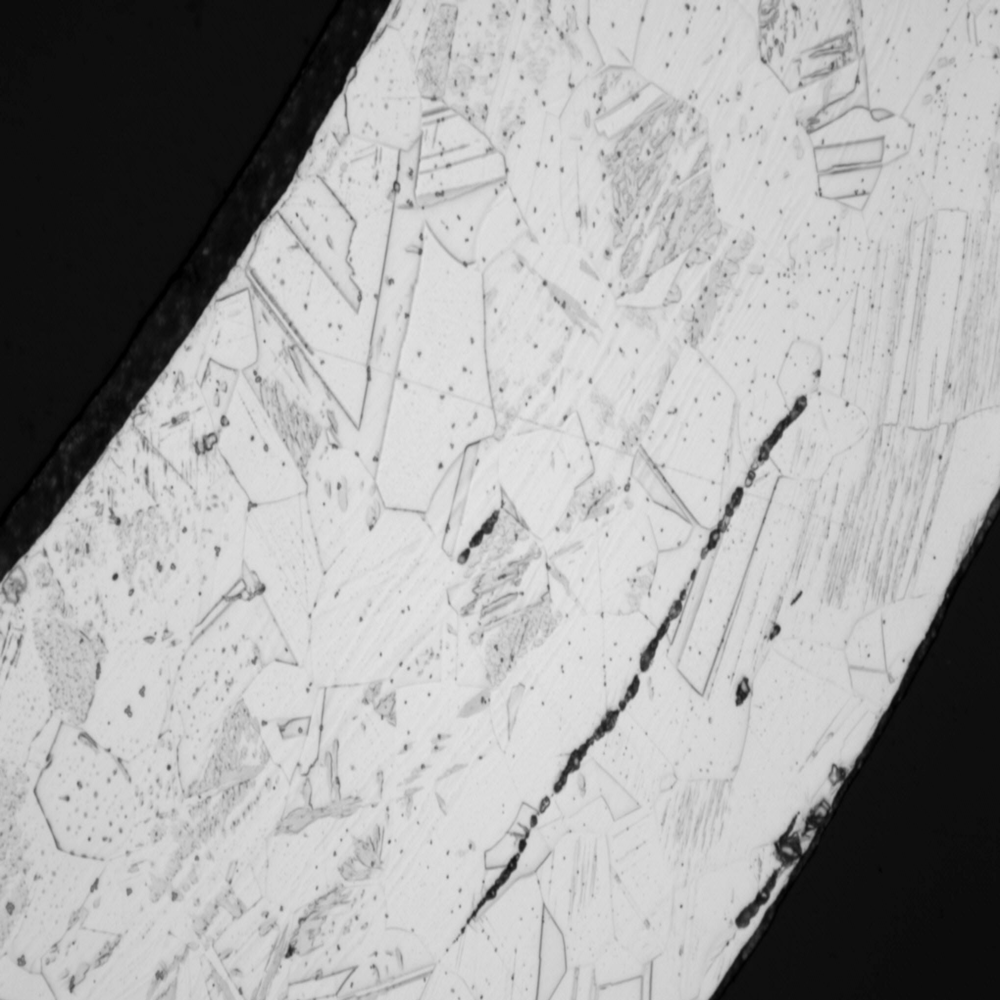crack: (418, 388, 824, 928)
